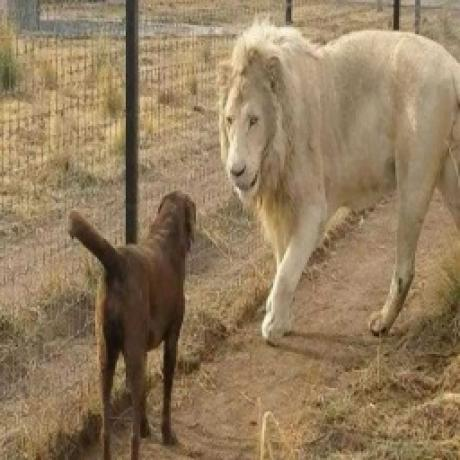Lion: (220, 18, 460, 351)
